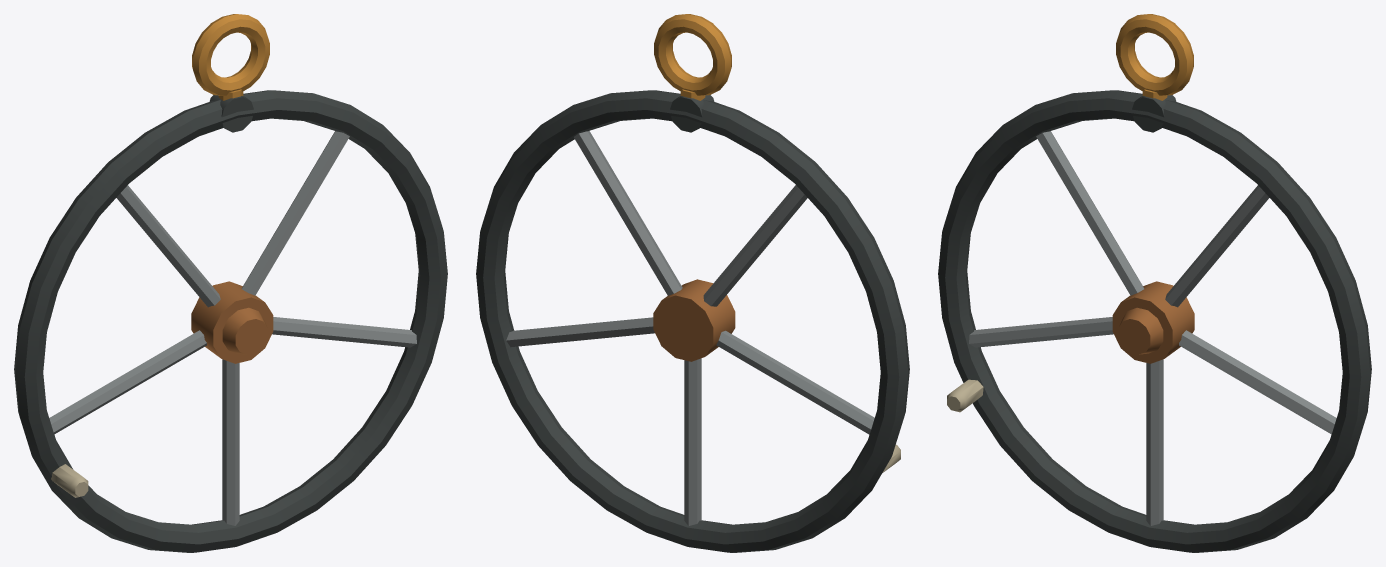
Rendered from sluice_valve_wheel.glb.
3 renders of one model, left to right at view 1: azimuth 30°, elevation 25°; view 2: azimuth 150°, elevation 25°; view 3: azimuth 330°, elevation 25°, orthographic.
Parts seen in each view (by area): view 1: Wheel; view 2: Wheel; view 3: Wheel.
Part boxes in pixels (x1,y1,x2,y2): Wheel: (14, 14, 447, 552); Wheel: (476, 14, 909, 552); Wheel: (938, 14, 1371, 552).
Bounding box in the file's own units: 1.81 × 2.13 × 0.26.
